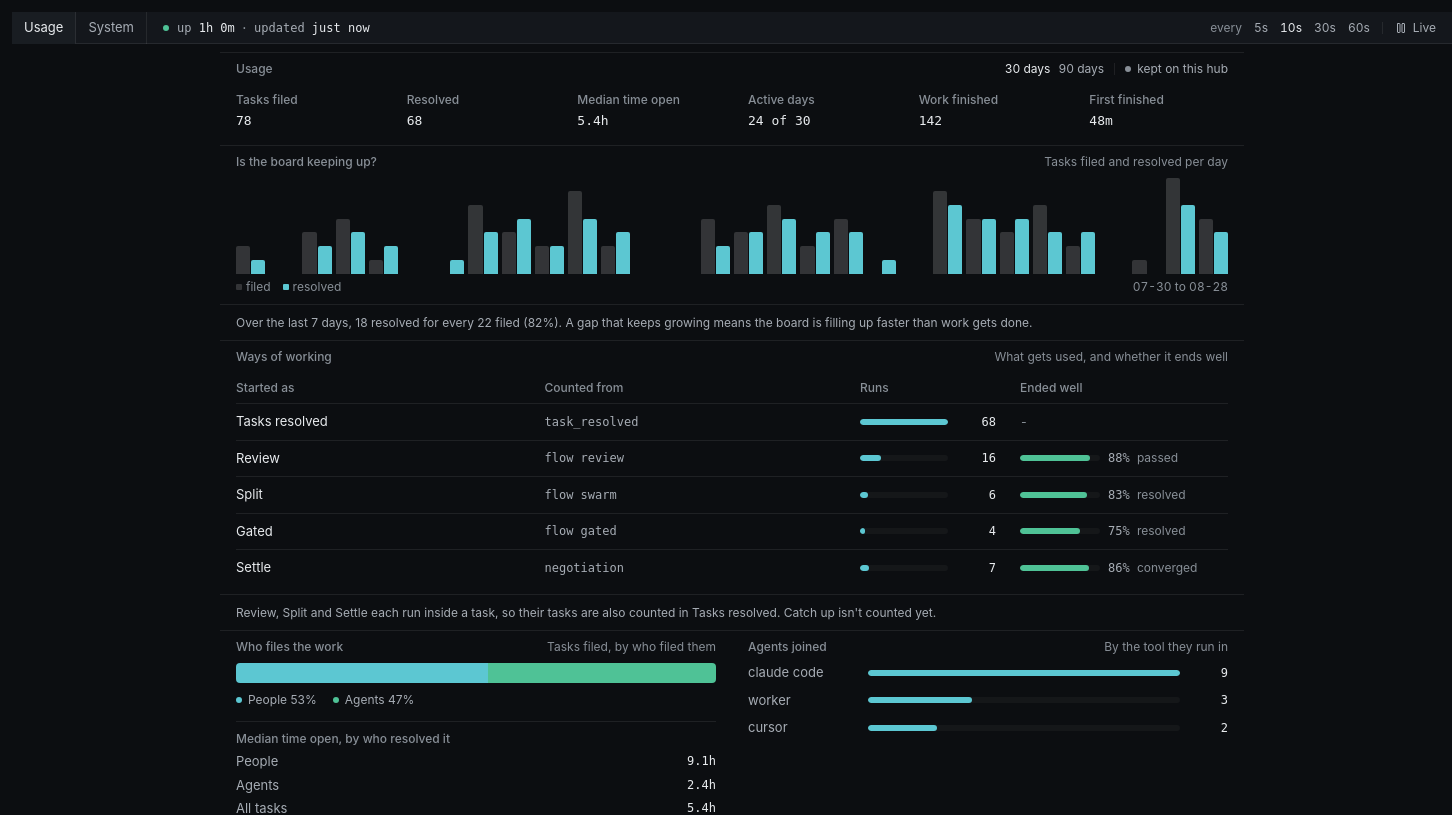
it: <MetricsScreen /> › opens on what the hub is used for, and keeps the system one tab away
Expected: the text "Ways of working" is shown, [236,348,332,366]
Expected: the text "Memory & retrieval" is not shown
Click the tab "System" at (112, 28), box [76,12,147,44]
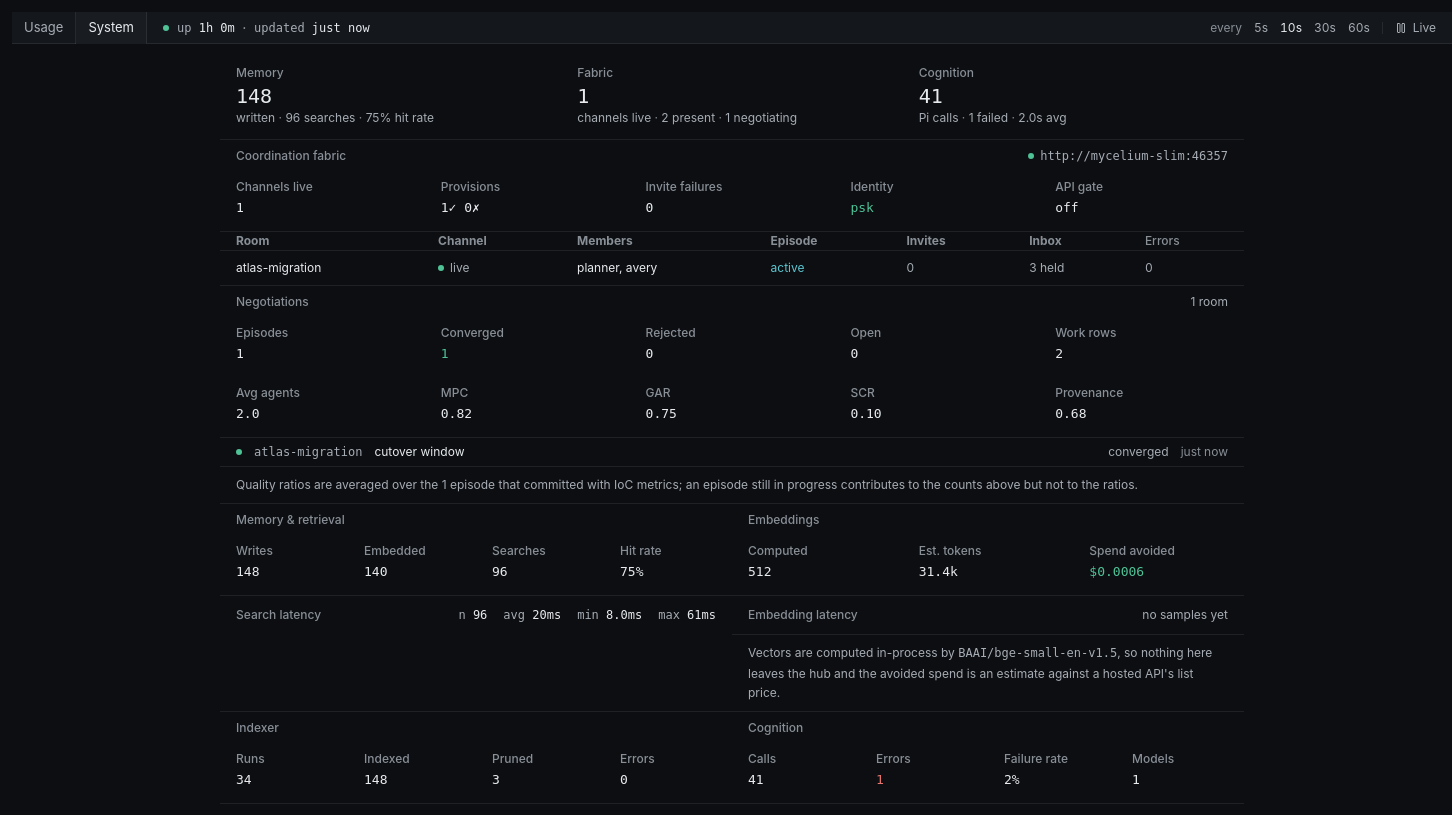
Now the text "Memory & retrieval" is shown, box [236,510,345,528]
